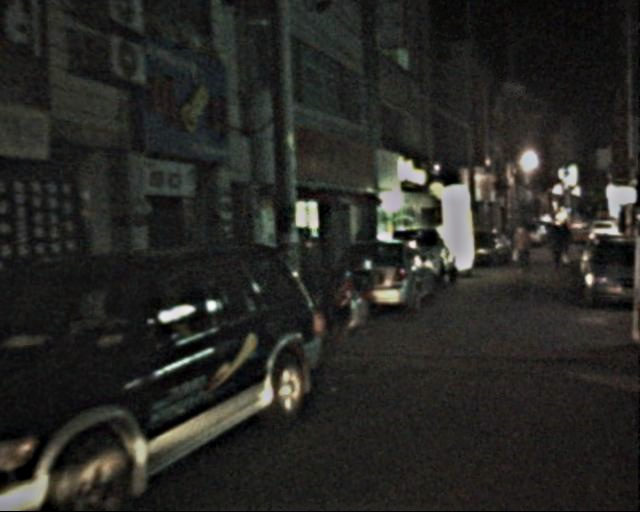person: (509, 222, 543, 277), (550, 221, 577, 268)
